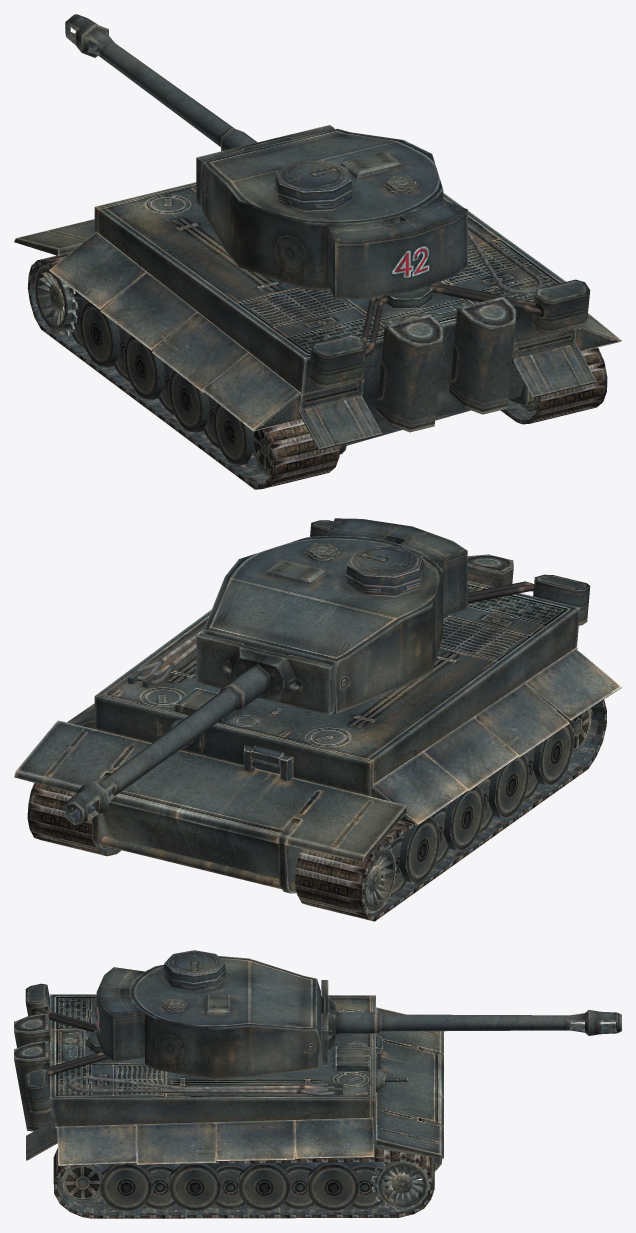
File: Tiger.FBX
The picture shows the model from 3 angles, top to bottom: view 1: azimuth 30°, elevation 25°; view 2: azimuth 150°, elevation 25°; view 3: azimuth 270°, elevation 25°; orthographic projection. The views are drawn at different scales.
Visible parts, largest first — view 1: Box05, Top; view 2: Box05, Top; view 3: Box05, Top.
Part boxes in pixels (x1=…): Box05: x1=14, y1=182, x2=621, y2=489; Top: x1=65, y1=14, x2=467, y2=299; Box05: x1=14, y1=520, x2=621, y2=921; Top: x1=65, y1=518, x2=467, y2=824; Box05: x1=14, y1=983, x2=443, y2=1218; Top: x1=96, y1=950, x2=621, y2=1080.
Size of the model in its own units: 5.26 by 3.16 by 9.66.
Materials: 2 (2 with a texture image).
